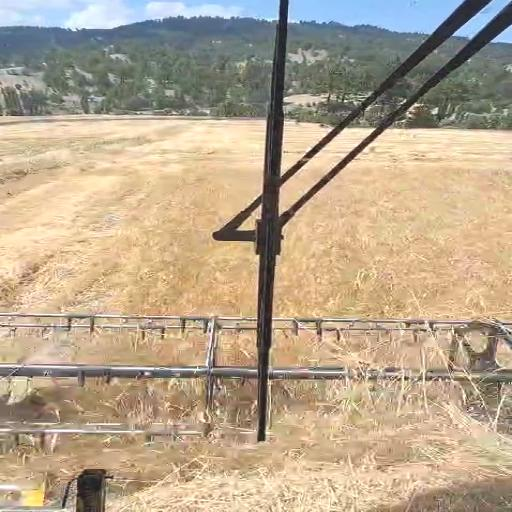bugday: (0, 126, 512, 315), (34, 164, 36, 168)
